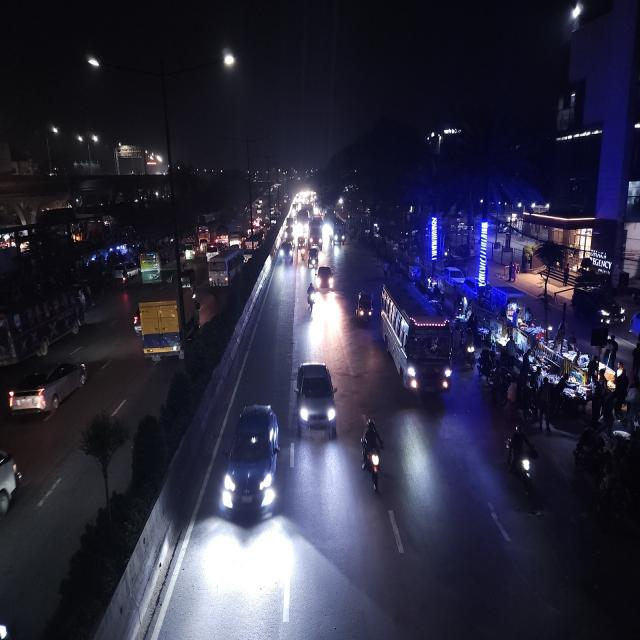bus: (0, 272, 84, 390), (379, 280, 455, 407), (140, 244, 173, 283), (208, 256, 235, 288), (330, 213, 346, 248)
car: (218, 398, 282, 524), (6, 354, 90, 422), (296, 359, 338, 440), (316, 263, 336, 292), (444, 264, 464, 288), (279, 241, 294, 264), (306, 247, 320, 271), (182, 242, 196, 262)
cng: (354, 288, 374, 329), (180, 266, 197, 290), (307, 246, 320, 271), (296, 234, 306, 250)
motorcycle: (502, 426, 540, 496), (358, 414, 387, 497), (306, 282, 318, 318)
truck: (132, 282, 201, 364), (307, 222, 323, 250)
